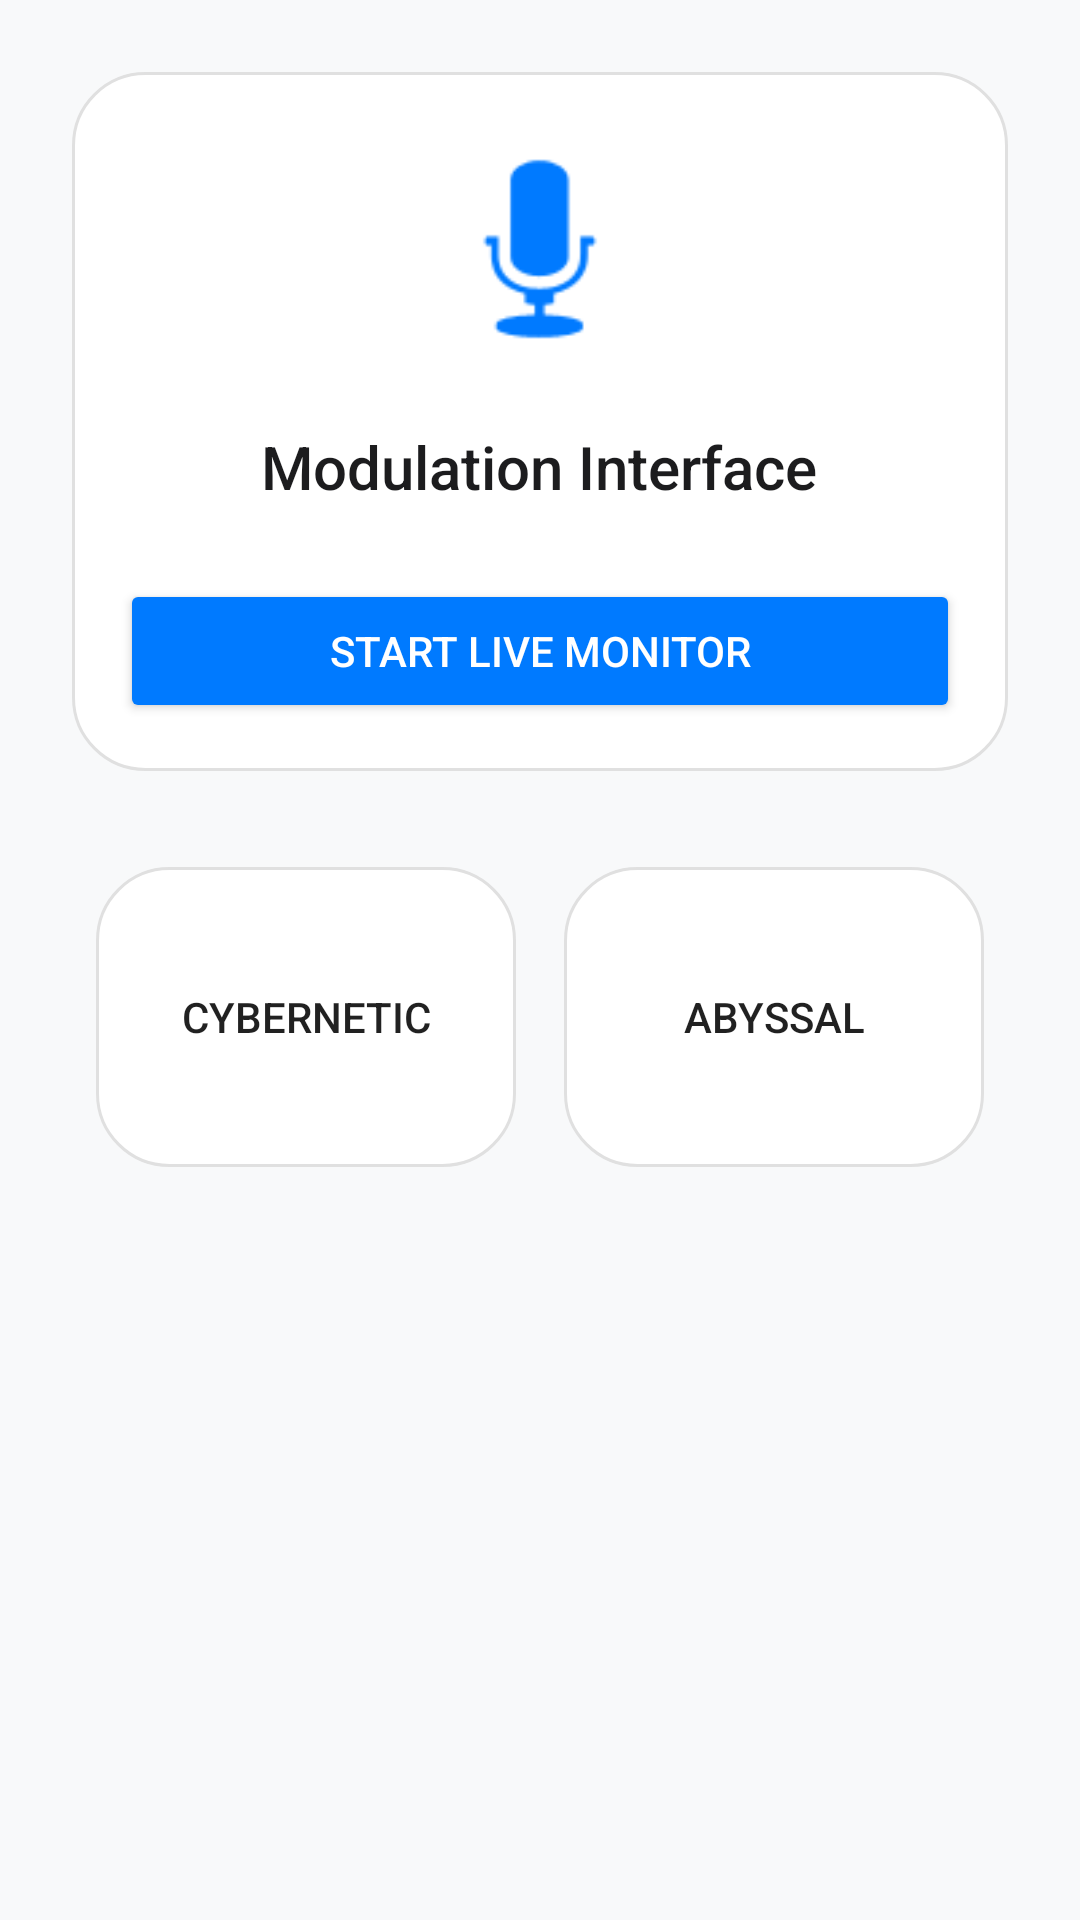

Screen size 1080×1920. Icon name, then its box in pixels as (x1, y1, x2, y2):
speak now: (483, 159, 597, 339)
